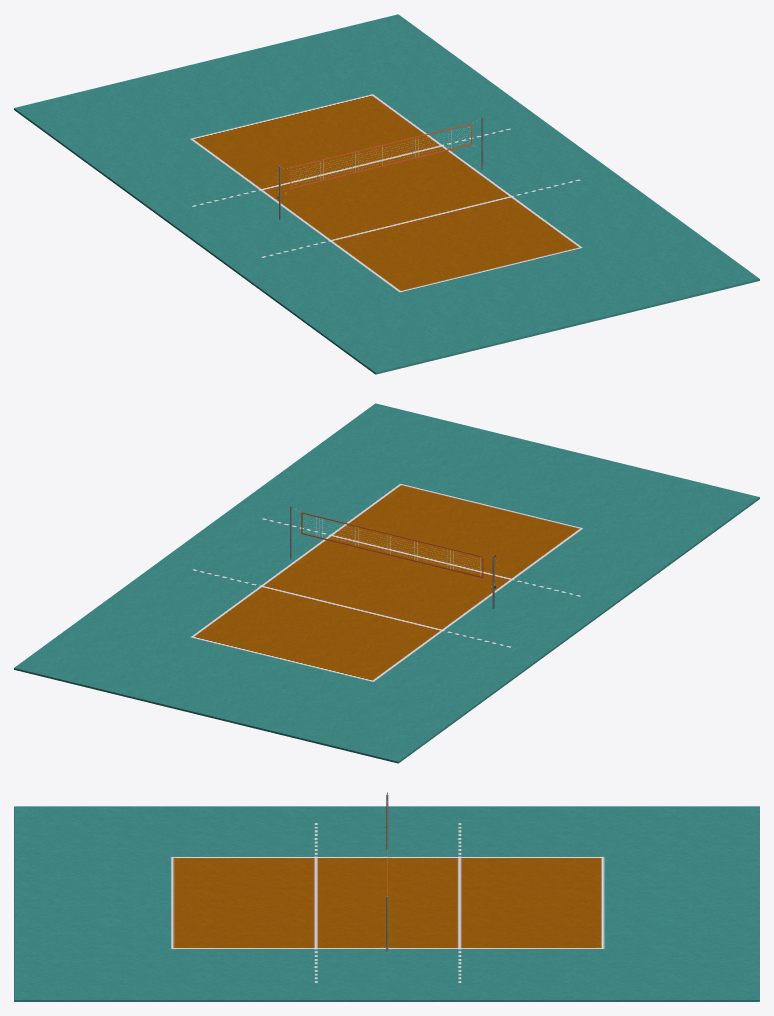
Rendered from volleyball.glb.
The picture shows the model from 3 angles, top to bottom: view 1: azimuth 30°, elevation 25°; view 2: azimuth 150°, elevation 25°; view 3: azimuth 270°, elevation 25°; orthographic projection. The views are drawn at different scales.
Visible parts, largest first — view 1: Volleyball, Volleyball_Net; view 2: Volleyball, Volleyball_Net; view 3: Volleyball, Volleyball_Net.
Part boxes in pixels (x1=…): Volleyball: x1=14, y1=14, x2=759, y2=374; Volleyball_Net: x1=277, y1=116, x2=483, y2=219; Volleyball: x1=14, y1=403, x2=759, y2=763; Volleyball_Net: x1=290, y1=506, x2=496, y2=608; Volleyball: x1=14, y1=806, x2=759, y2=1001; Volleyball_Net: x1=386, y1=792, x2=388, y2=951.
Bounding box in the file's own units: 19.02 × 2.66 × 30.99.
3 materials, 3 textured.
